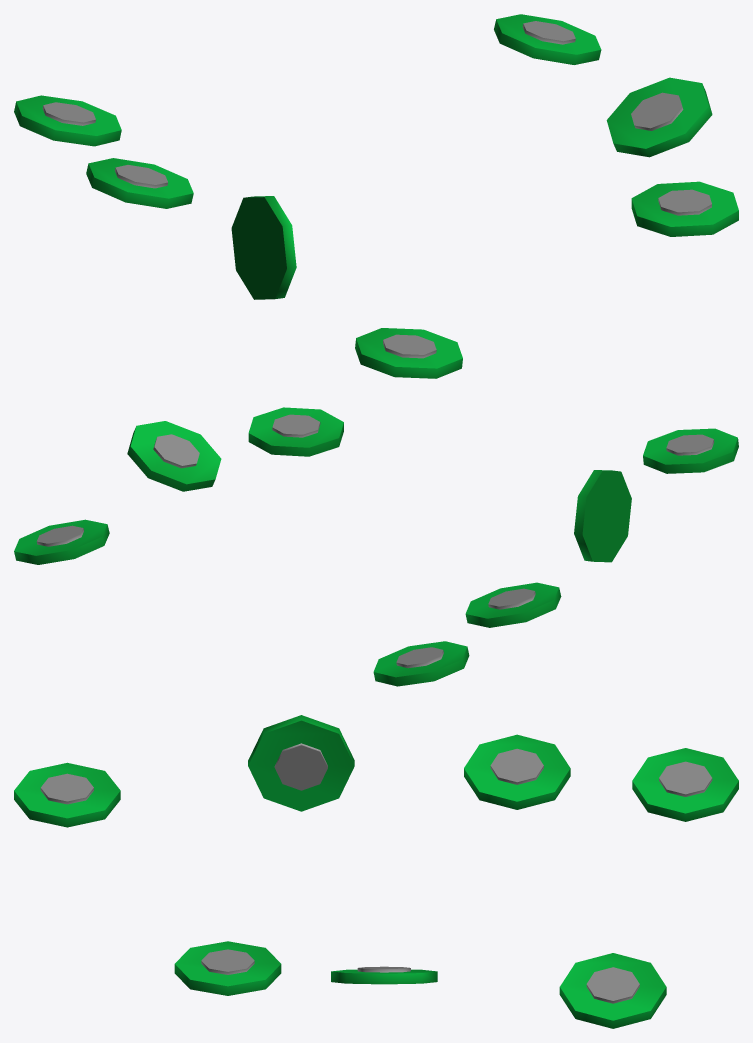
The model's file is MINE01.glb.
3 renders of one model, top to bottom at view 1: azimuth 30°, elevation 25°; view 2: azimuth 150°, elevation 25°; view 3: azimuth 270°, elevation 25°, orthographic. The views are drawn at different scales.
Parts seen in each view (by area): view 1: FRAME_ROOT; view 2: FRAME_ROOT; view 3: FRAME_ROOT.
Boxes of the visible parts, <box> form: FRAME_ROOT: <box>14,14,738,378</box>; FRAME_ROOT: <box>14,407,738,686</box>; FRAME_ROOT: <box>14,715,738,1028</box>.
Size of the model in its own units: 5.75 by 1 by 6.79.
1 material, 1 textured.
